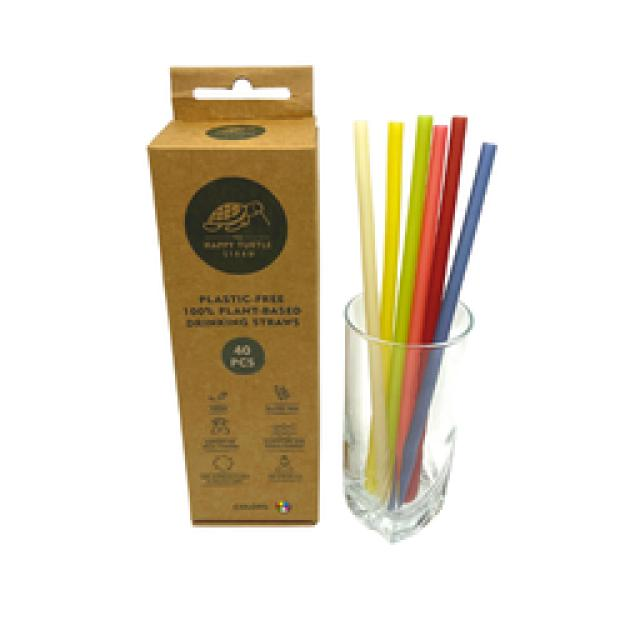plastic: (345, 110, 497, 515), (340, 290, 475, 540), (385, 112, 435, 510), (350, 115, 382, 500), (377, 118, 405, 508)
